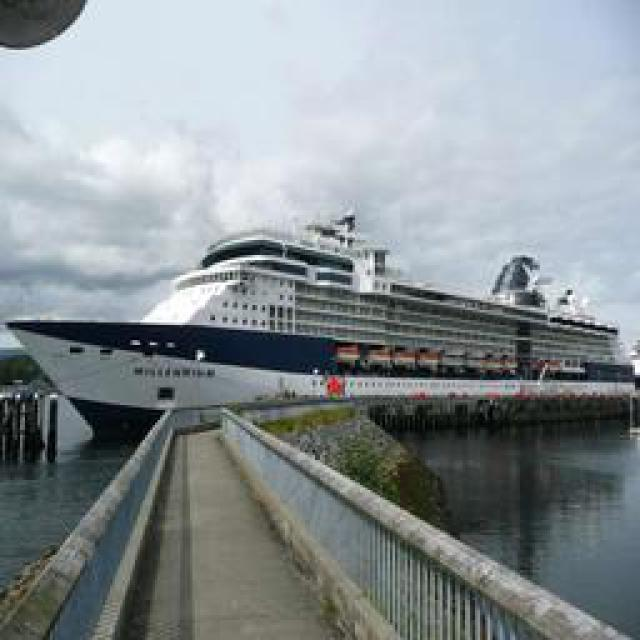Ship: (21, 215, 624, 433)
